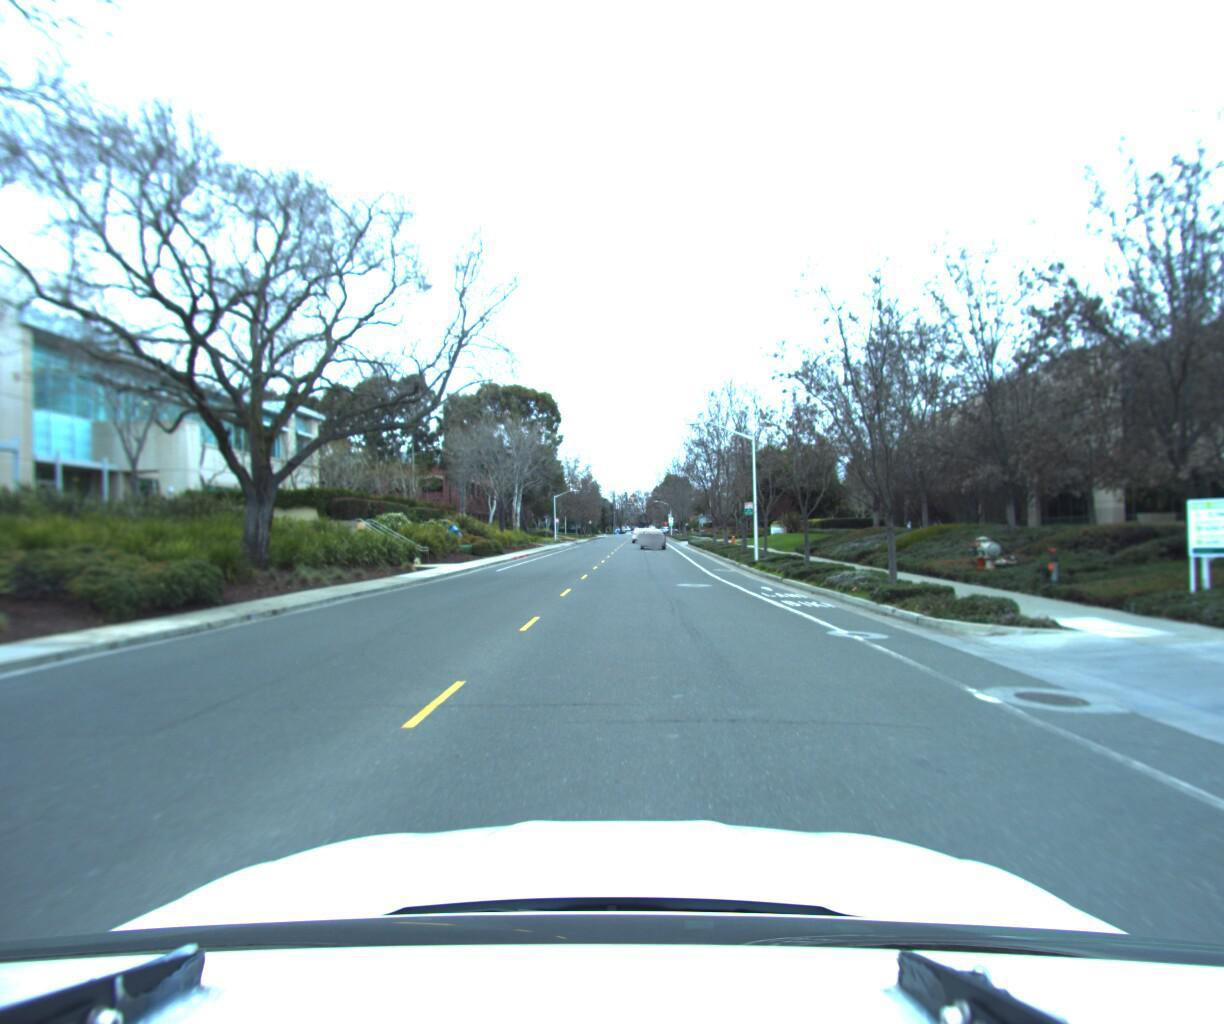car: (641, 524, 668, 544)
